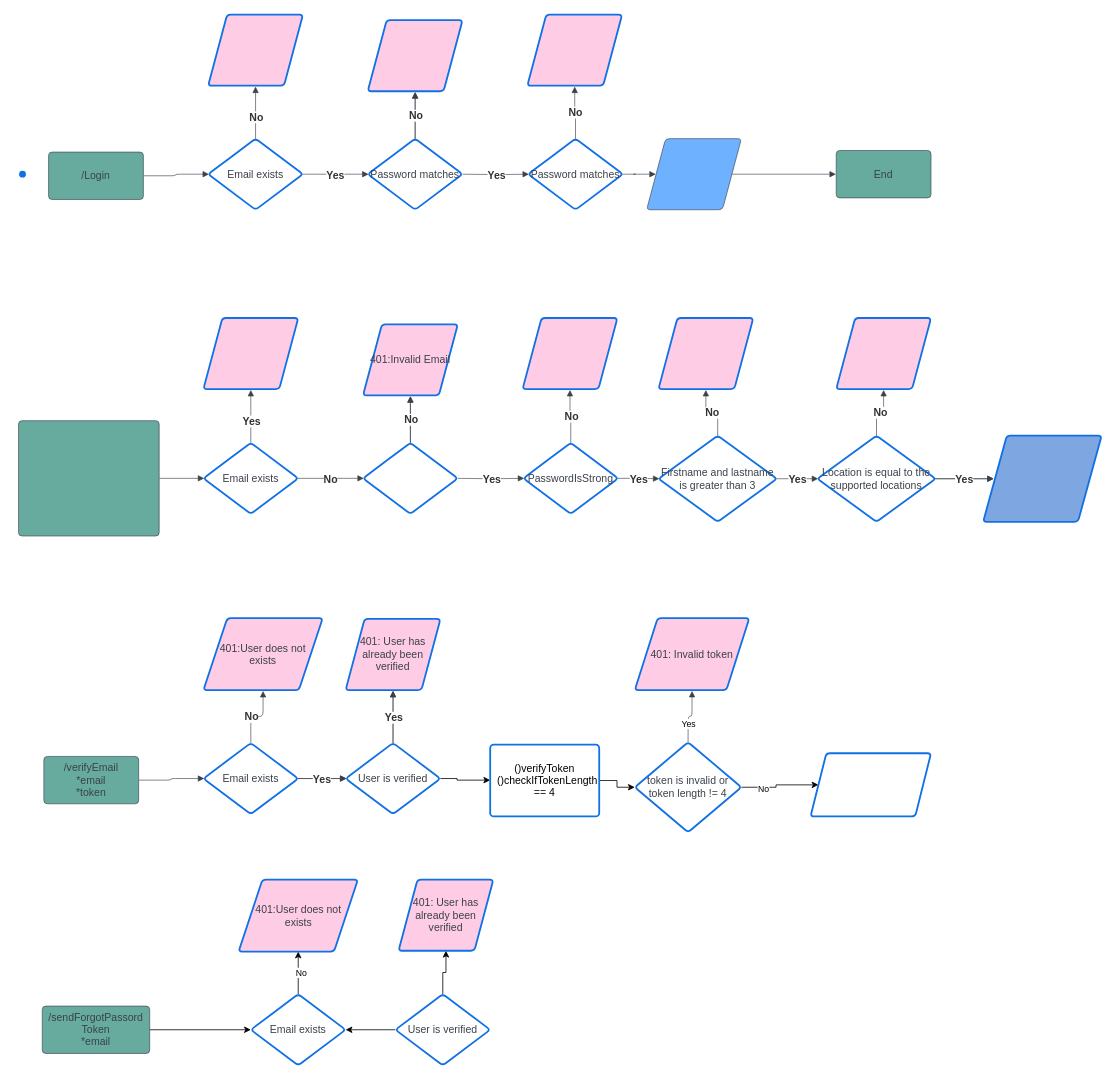
Image size: 1116x1080. Some labels were removed from this diagram. Here are the shapes that lost their labels. From the top down, the centre of each, then its label:
At [255,49]: "401:No user found".
At [414,55]: "401:Invalid password".
At [574,49]: "401:User is not verfied".
At [693,174]: "201:Logged in ()HttpCookie".
At [250,353]: "401:Email taken".
At [569,353]: "401:Password too weak".
At [705,353]: "401:Firstname or lastname is too weak".
At [883,353]: "401: Your location is not currently supported".
At [88,478]: "/Signup *email *password *firstname *lastname *farm_location".
At [410,478]: "EmailIsValid".
At [1042,478]: "()createUser ()sendVerification 201:Account created".
At [870,784]: "() set user verified ()set token to null 201:Account verified".
